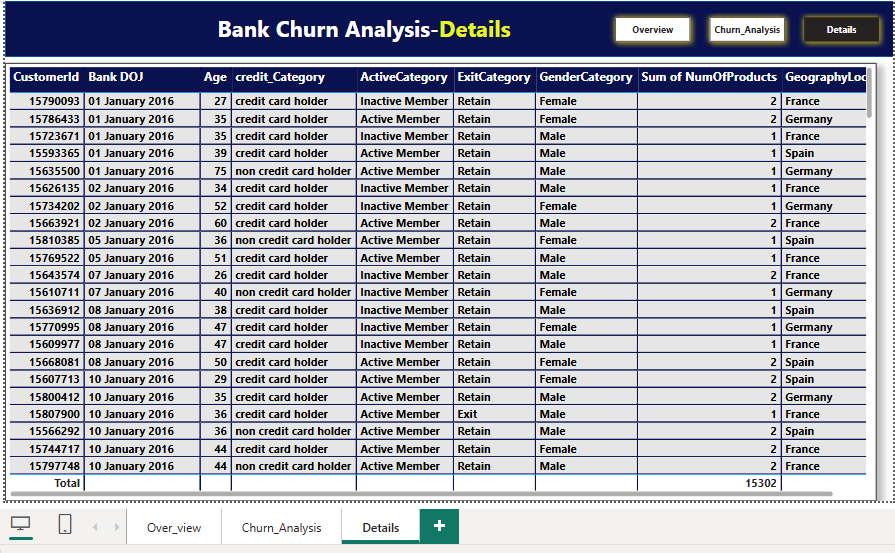

This screenshot's page, from the dashboard's own definition file:
{"tool":"powerbi","page":{"name":"Details","canvas":[1280,720],"ordinal":2},"visuals":[{"type":"shape","box":[0,0,1280.3,80.6],"z":0},{"type":"tableEx","fields":{"Values":["CustomerInfo.CustomerId","Bank_Churn.Bank DOJ","Bank_Churn.Age","Credit_card_Customers.credit_Category","ActiveCustomer.ActiveCategory","Exit_customers.ExitCategory","Gender.GenderCategory","Sum(Bank_Churn.NumOfProducts)","Geography.GeographyLocation"]},"box":[0,89.3,1254.6,631],"z":1000},{"type":"textbox","box":[301,11.5,515.5,57.6],"z":2000},{"type":"bookmarkNavigator","box":[869.8,14.4,398.9,53.3],"z":3000}]}

Visuals, with their boxes on the page's 1280x720 design canvas (x1, y1, x2, y2). These are canvas units, not pixel positions in the 895x553 screenshot, which may show the page scaled, cropped or inside an application window:
shape: box=[0, 0, 1280, 81]
tableEx - CustomerInfo.CustomerId x Bank_Churn.Bank DOJ: box=[0, 89, 1255, 720]
textbox: box=[301, 12, 816, 69]
bookmarkNavigator: box=[870, 14, 1269, 68]
